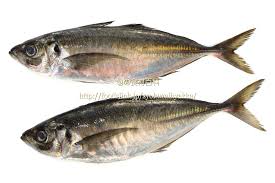azi: (20, 86, 256, 158), (7, 20, 251, 79)
